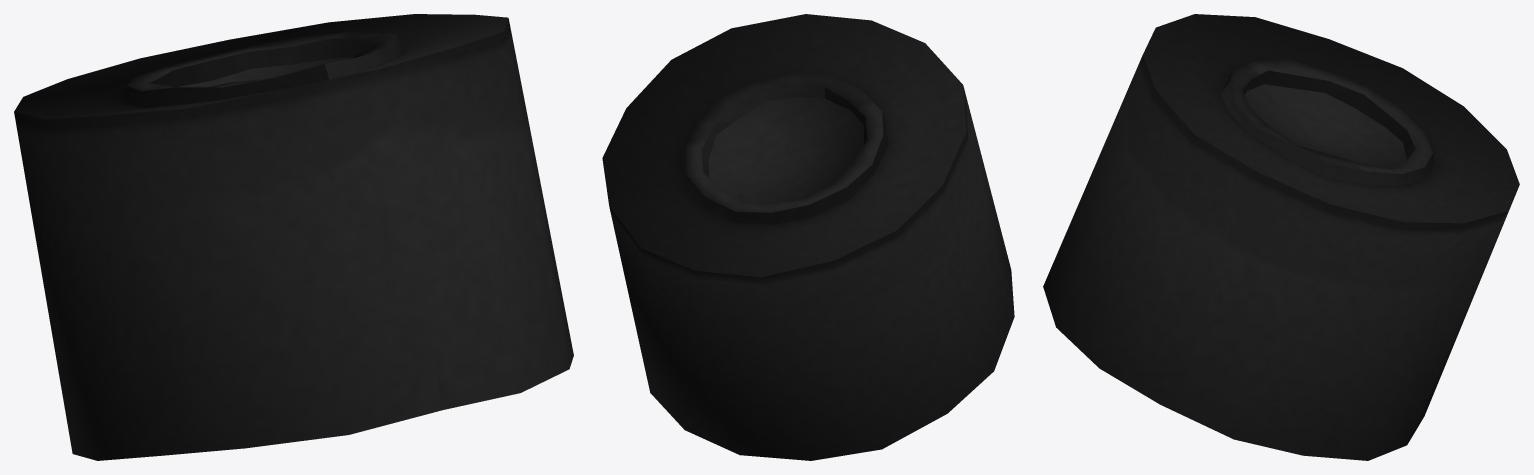
The model's file is YVR_d1_right_home.obj.
3 views of the same model, side by side, from view 1: azimuth 30°, elevation 25°; view 2: azimuth 150°, elevation 25°; view 3: azimuth 270°, elevation 25° (orthographic). The views are drawn at different scales.
Visible parts, largest first — view 1: Object010; view 2: Object010; view 3: Object010.
Part boxes in pixels (x1=…): Object010: x1=14, y1=14, x2=573, y2=460; Object010: x1=602, y1=14, x2=1014, y2=460; Object010: x1=1043, y1=14, x2=1519, y2=460.
Bounding box in the file's own units: 0.0094 × 0.0092 × 0.011.
1 material, 1 textured.
